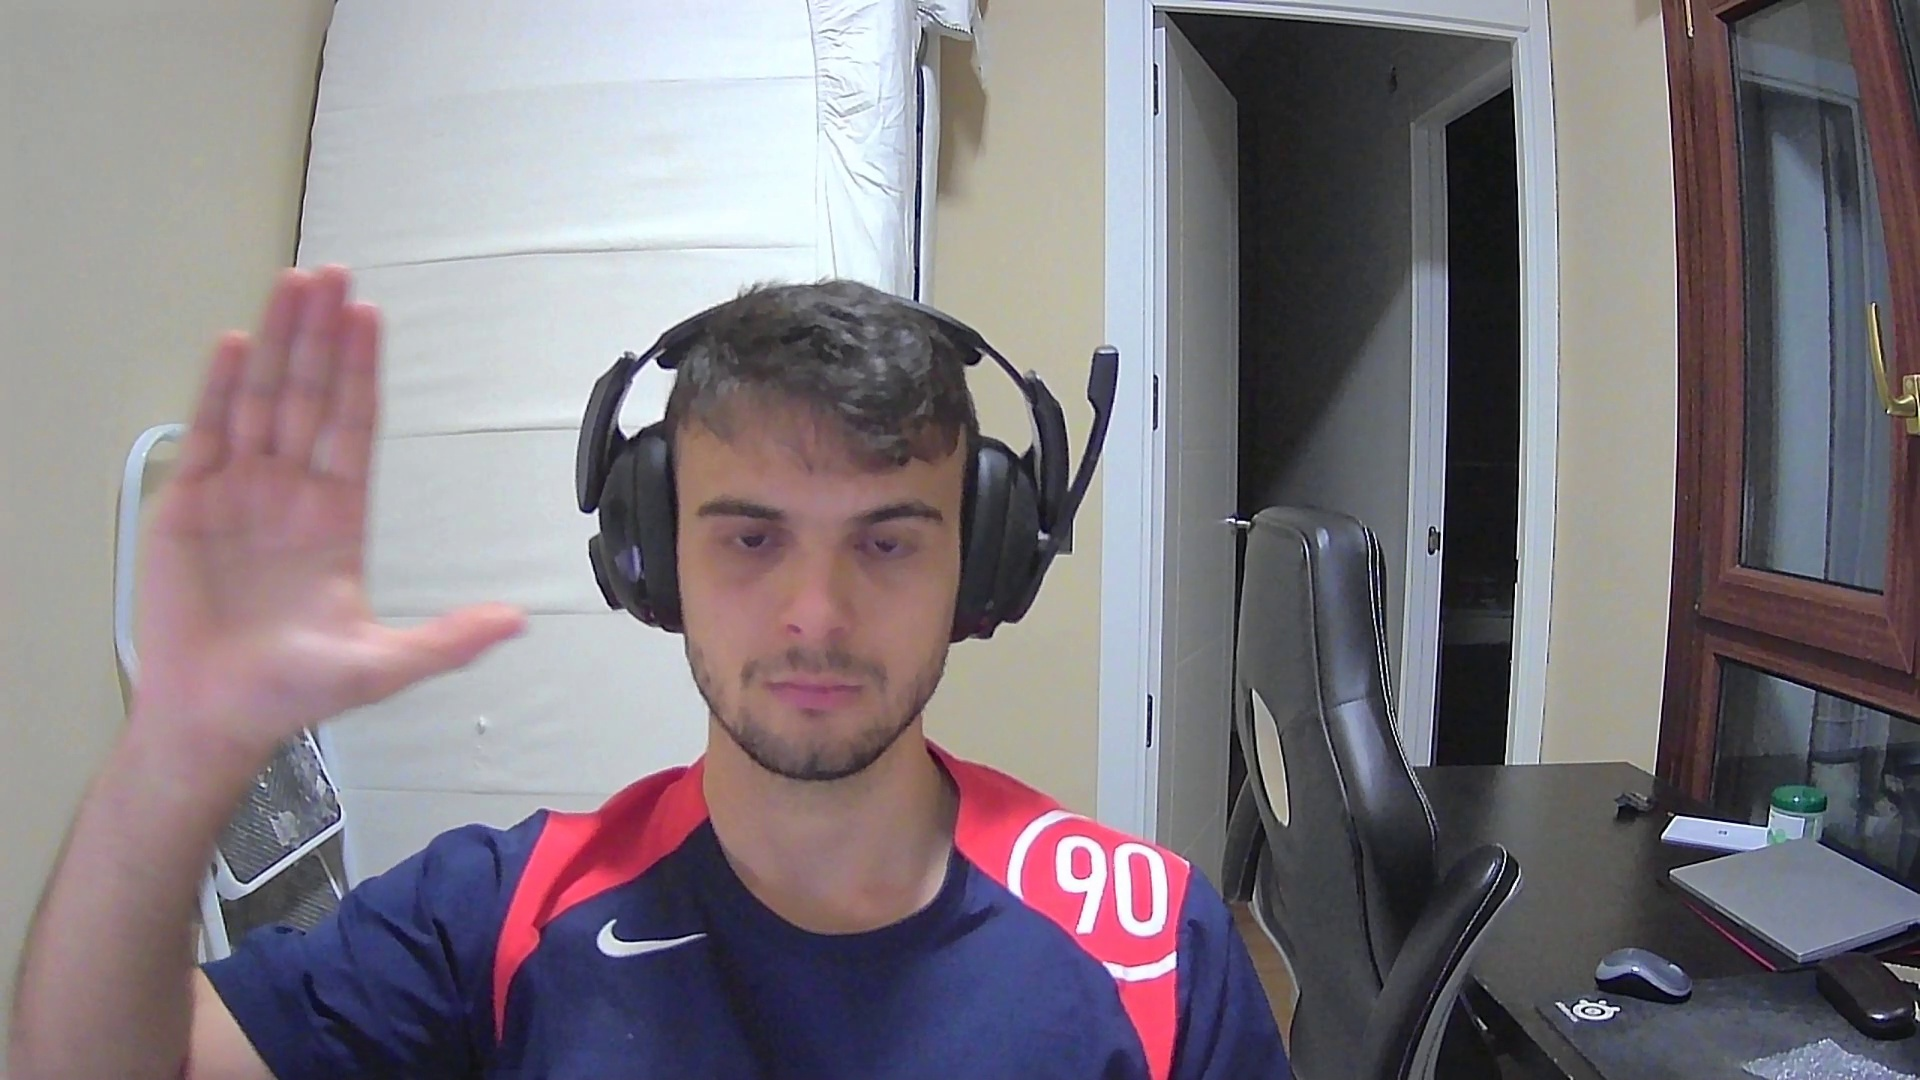Palm: (127, 258, 534, 728)
